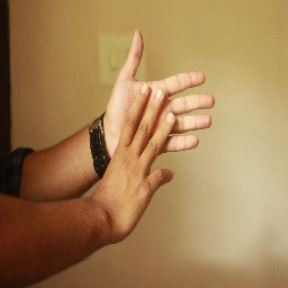M: (95, 28, 216, 208)
